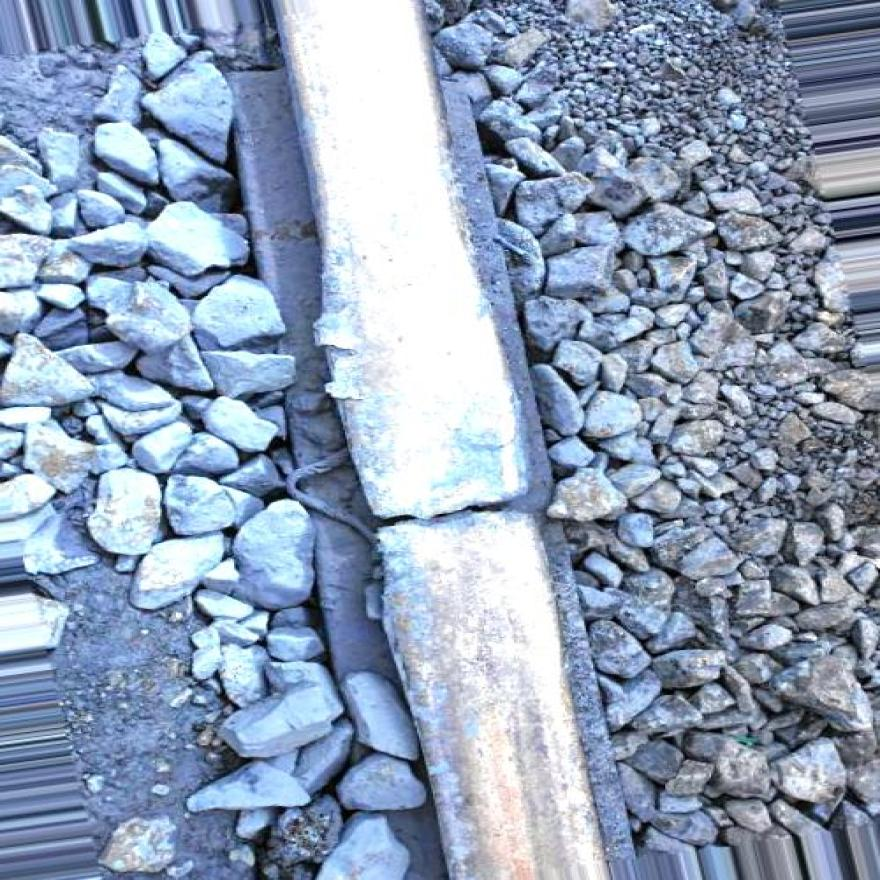railway-gap: (290, 397, 602, 633)
